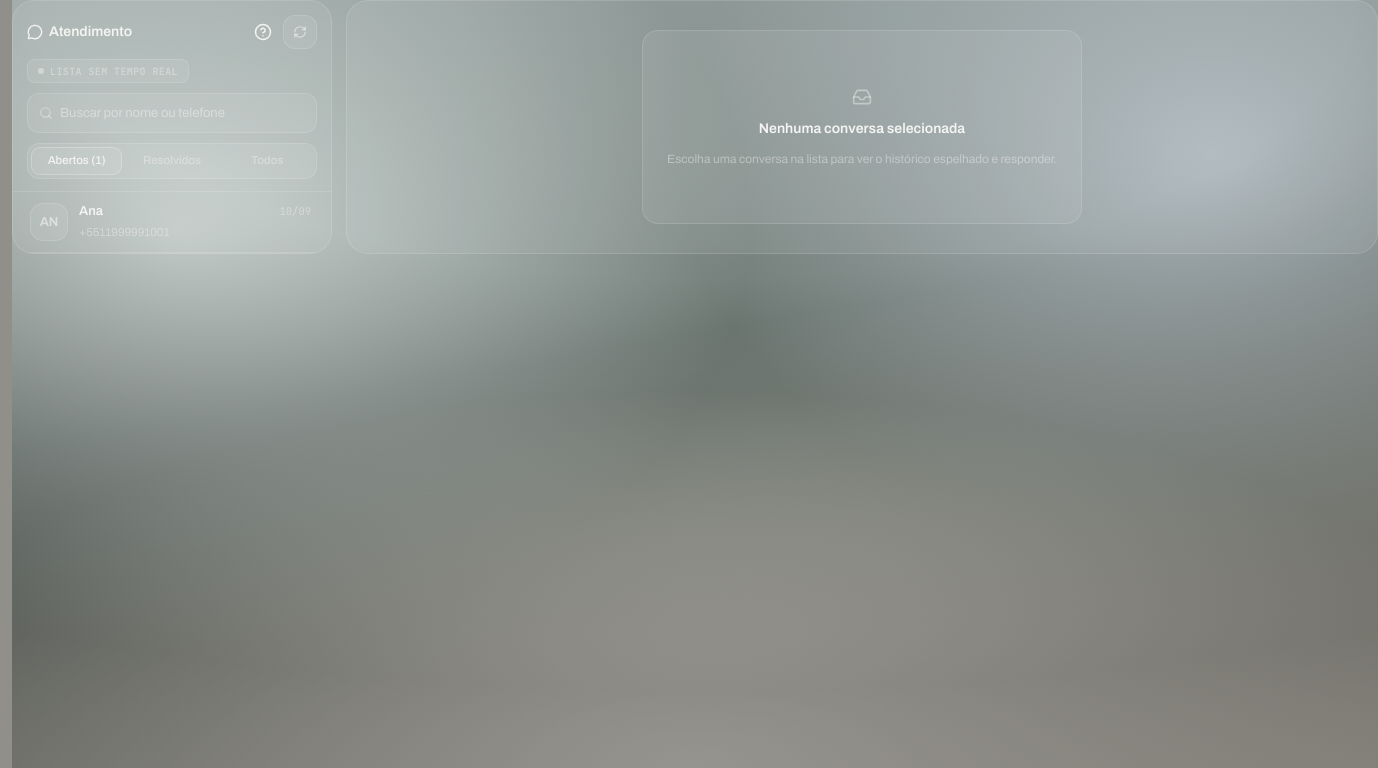
it: MensageriaDesktop — envio › atendimento (MSG-009) › outra aba mudou antes: mostra o motivo e o estado atual do servidor
The width and height of the screenshot is (1378, 768).
Step 1. Click the text "Ana" → [91, 211], box [79,203,103,220]
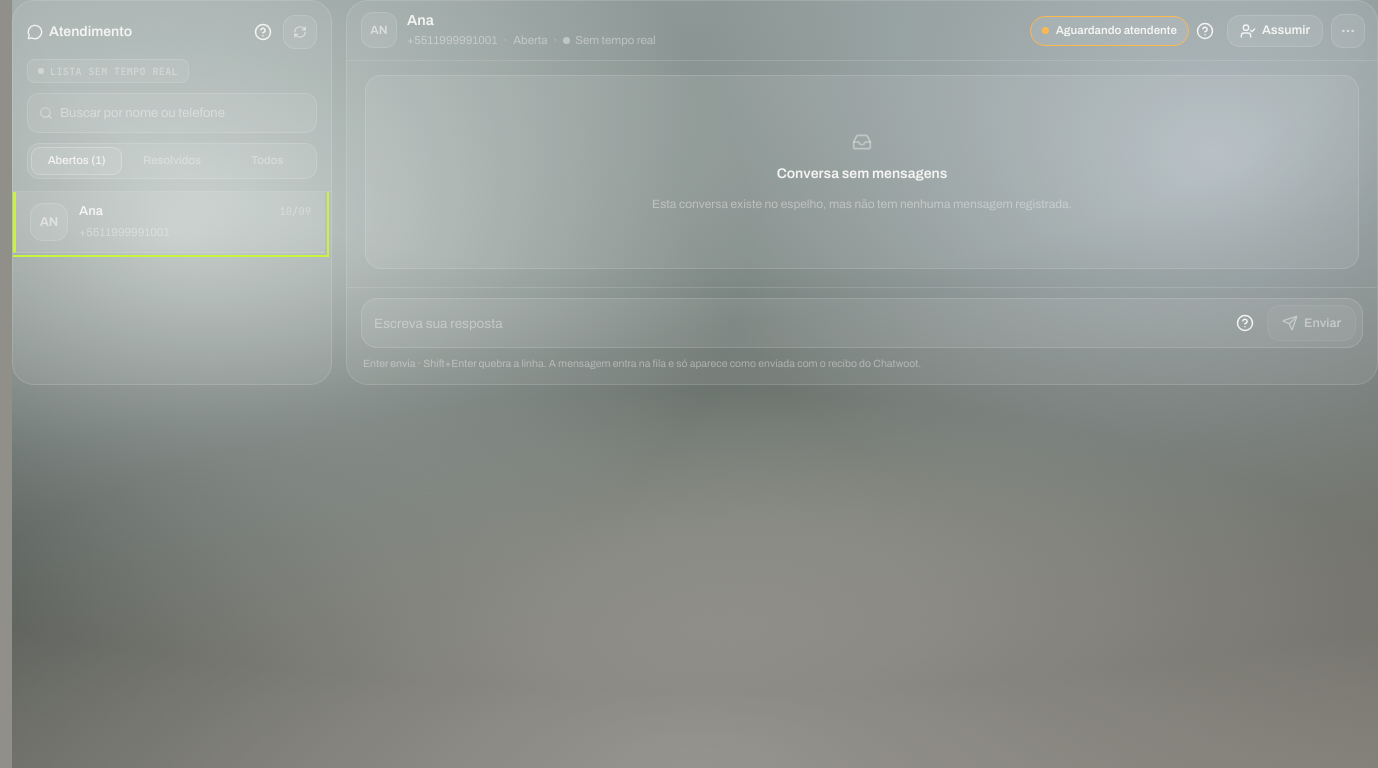
Expected: the button with aria-label "Assumir atendimento" is shown
Step 2. Click the button with aria-label "Assumir atendimento" → [1275, 30], box [1227,14,1323,46]
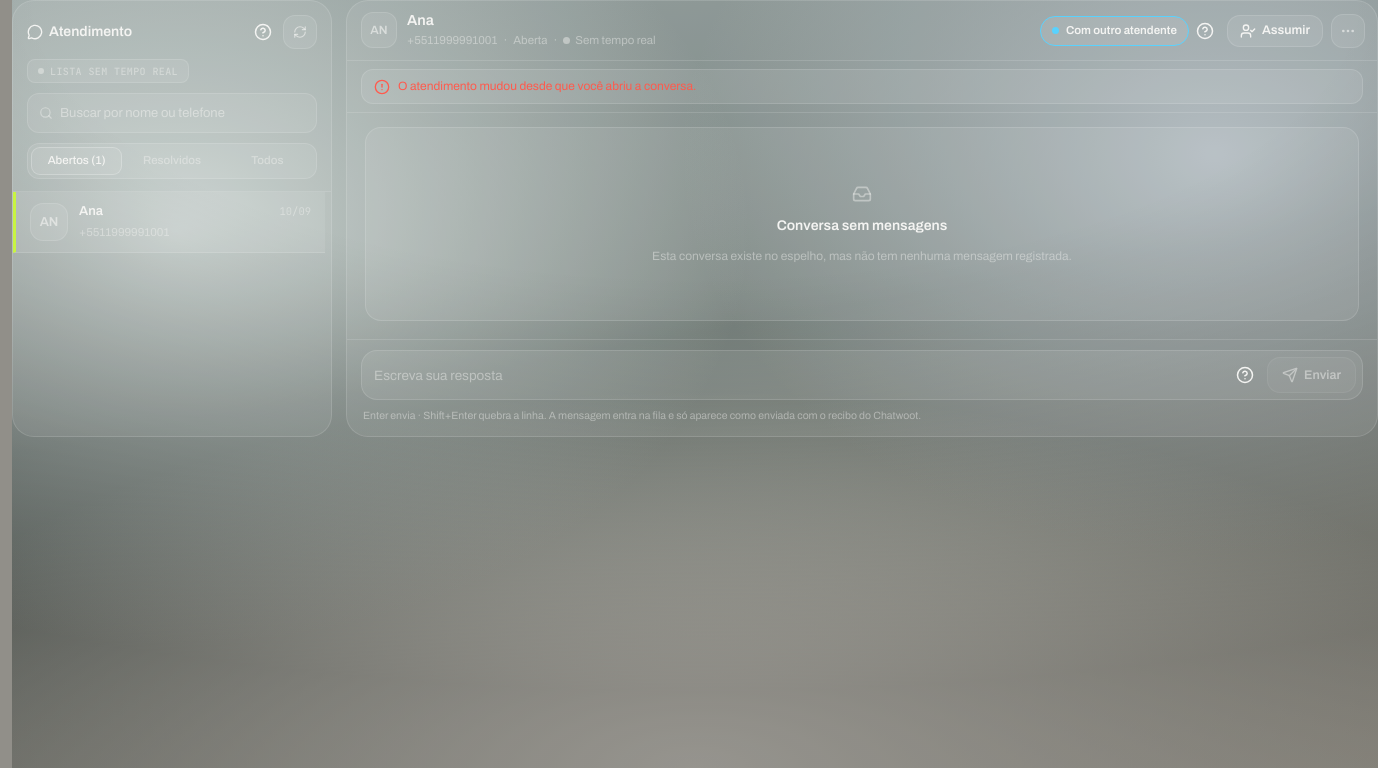
Expected: the text "O atendimento mudou desde que você abriu a conversa." is shown, [398,78,696,94]
Expected: the text named "Quem atende" reads "Com outro atendente", [1066,24,1177,36]
